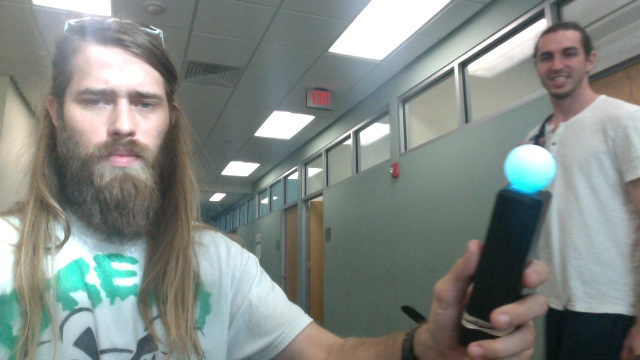wand: (505, 146, 555, 193)
